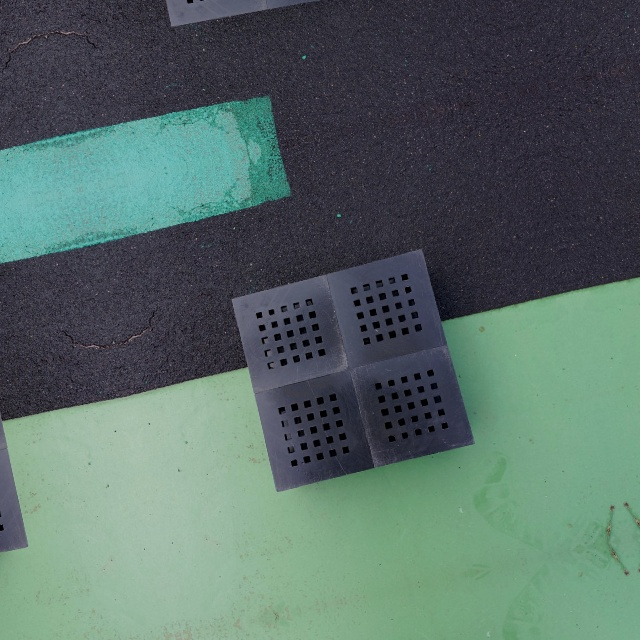pallet: (227, 246, 477, 499)
